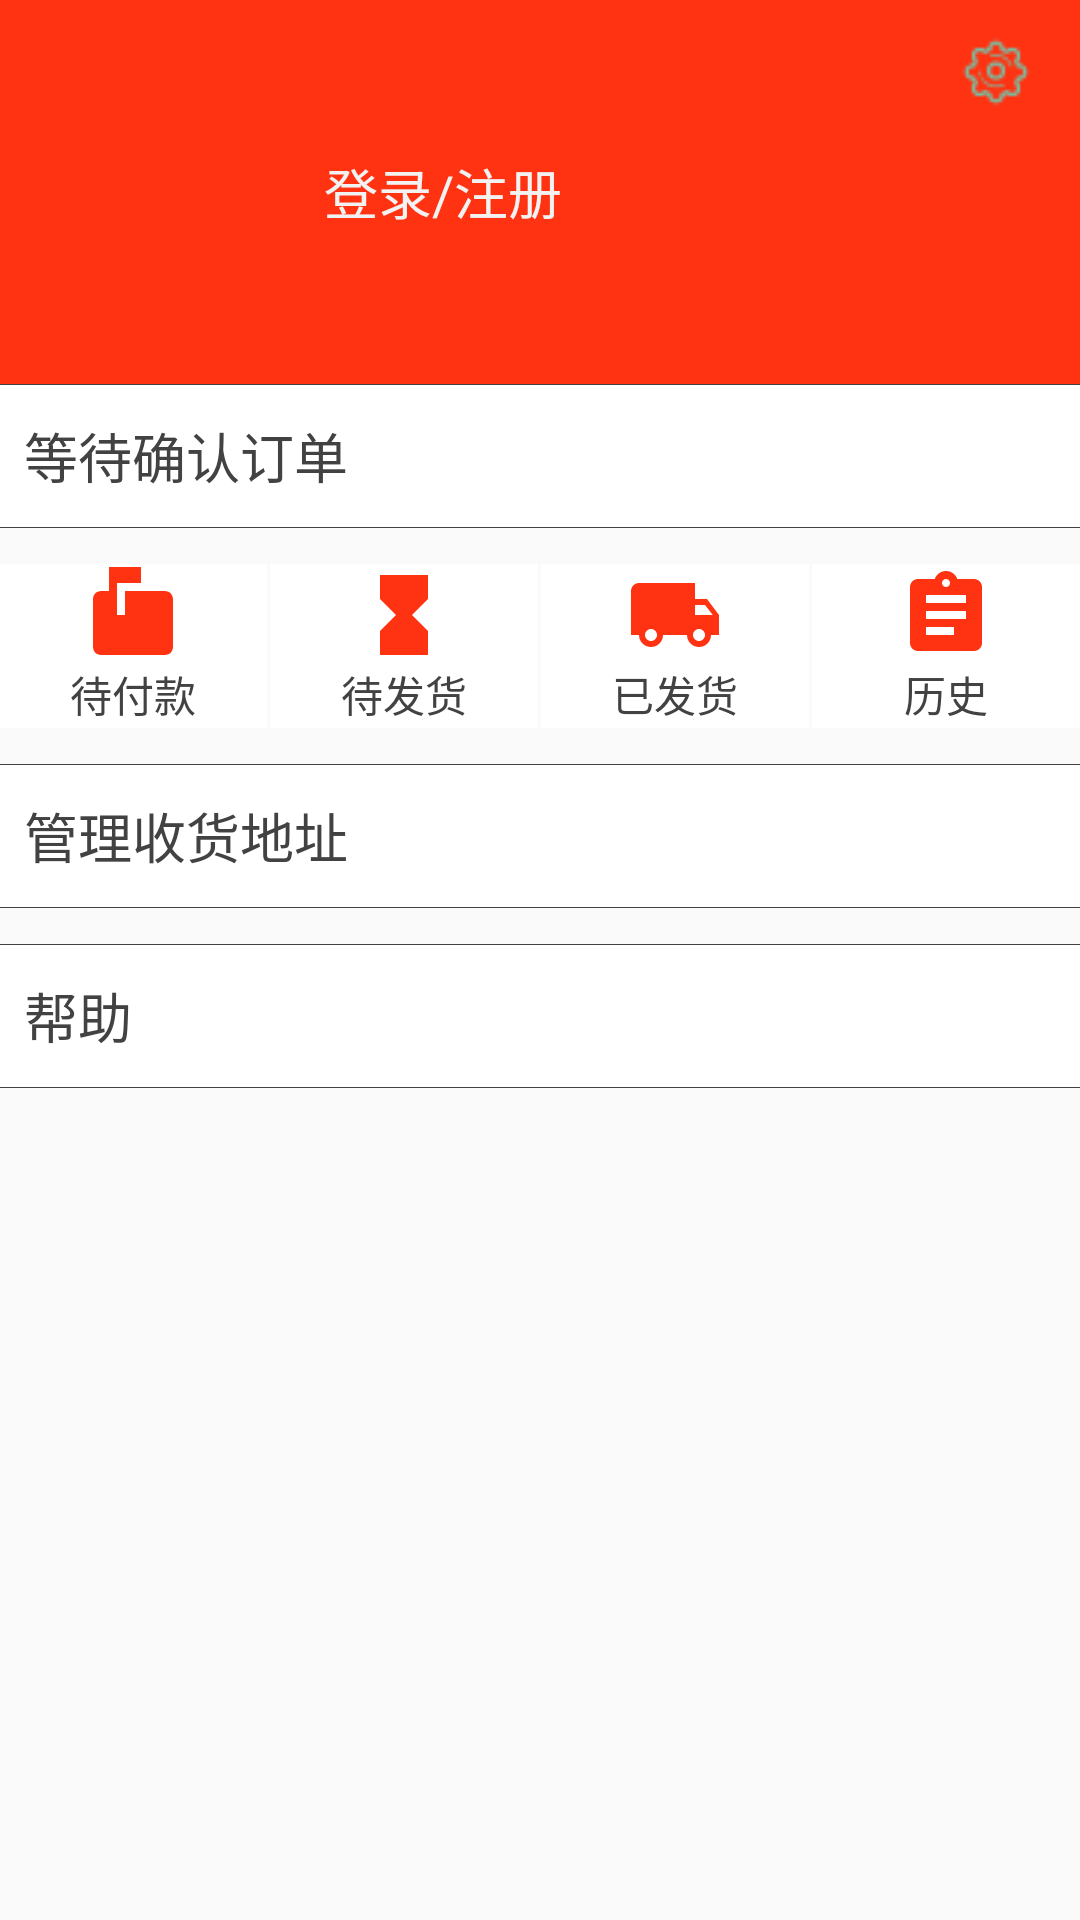

Icon click points for this 1080x1920 phone screenshot, format [x,y]:
settings: [996,72]
